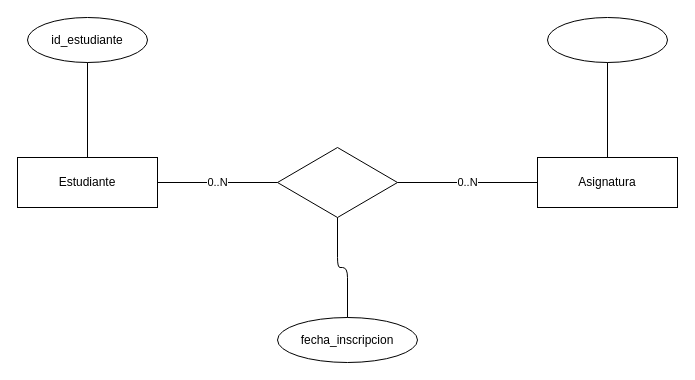
Image size: 695x380. Some labels were removed from this diagram. Here are the shapes that lost their labels. From the top down, the centre of each, then its label:
point (607, 39): id_asignatura
point (337, 182): inscribe
